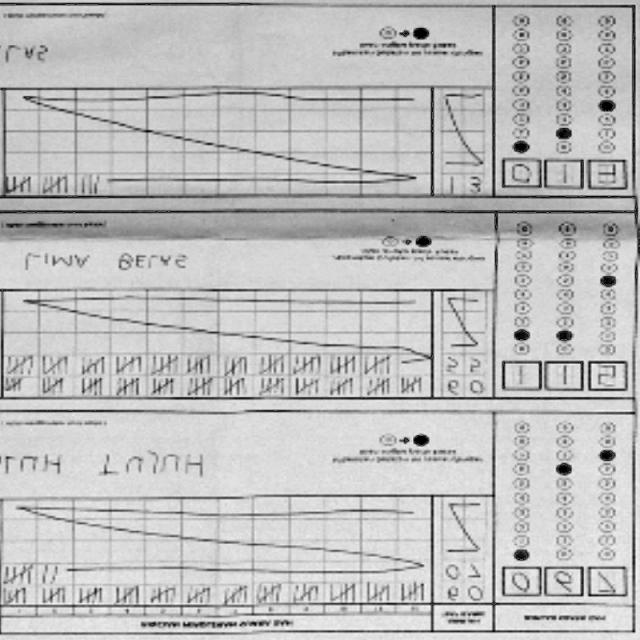Suara: (494, 357, 630, 396), (494, 154, 630, 193), (497, 564, 633, 602)
